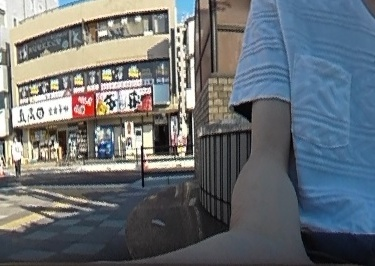person: (9, 134, 23, 176)
